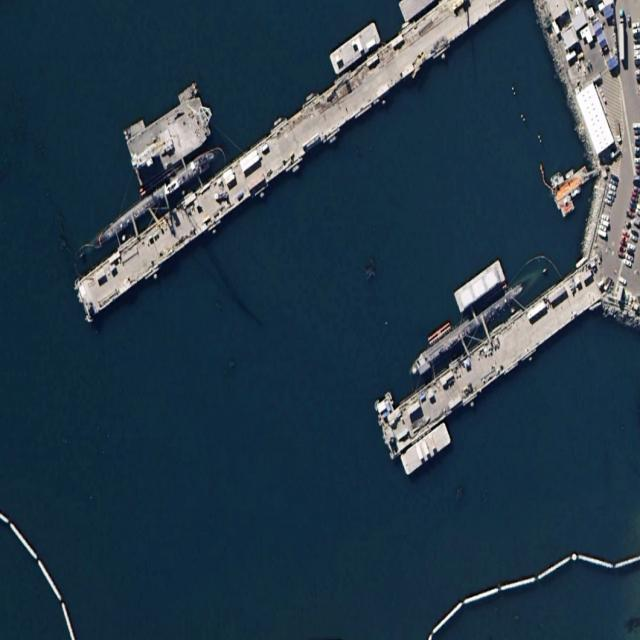Submarine: (406, 262, 544, 385), (83, 146, 216, 258)
